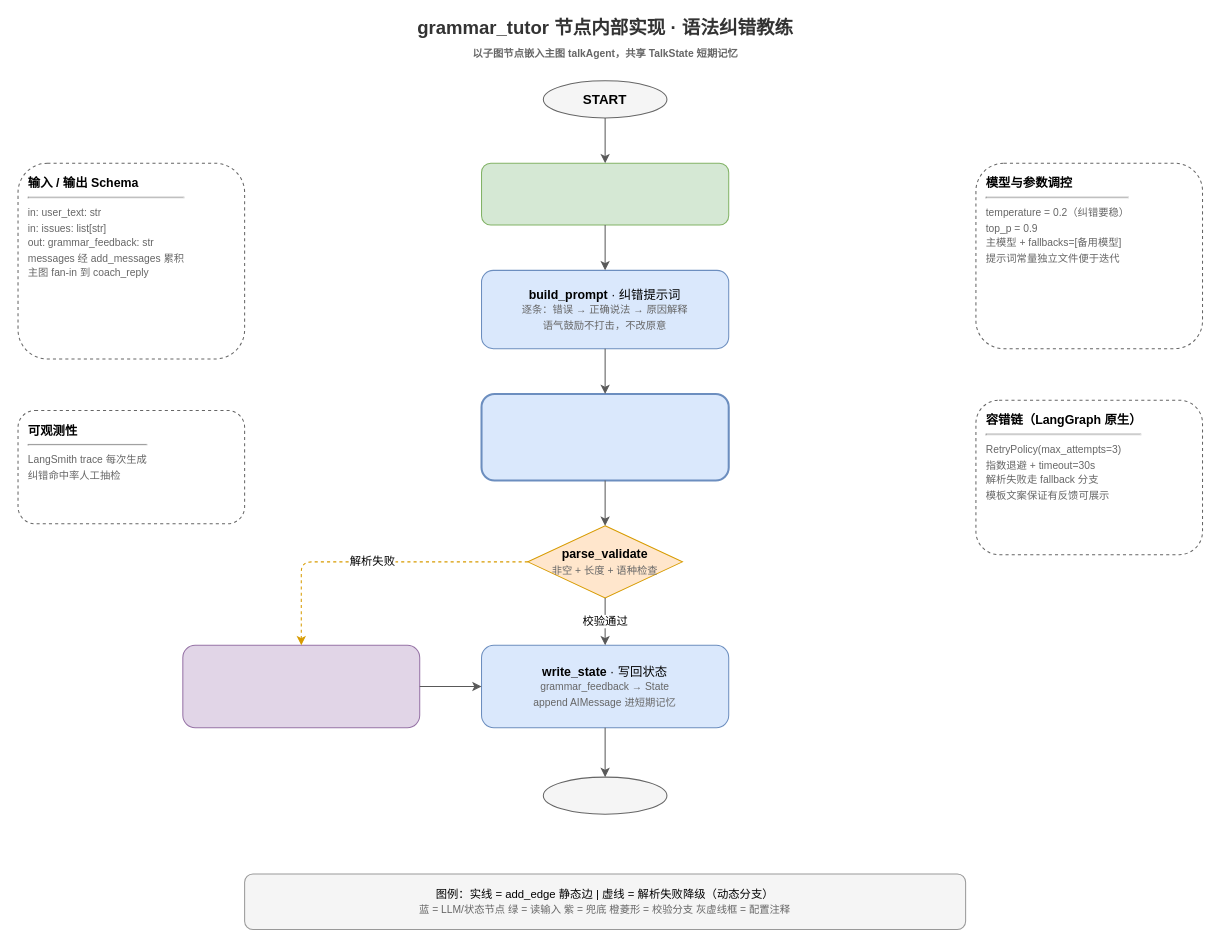
This 1221x948 diagram has some shape labels left out. Here are the shapes that lost their labels. From the top down, the centre of each, then its label:
(604,193): load_input · 读 State 输入：user_text + issues 列表（评估节点产出）
(604,436): llm_call · 文本生成（核心） temperature=0.2 稳定纠错 max_tokens=512 RetryPolicy 挂在节点上自动重试
(301,686): fallback · 降级兜底 按 issues 逐条回显模板文案
(604,795): END
